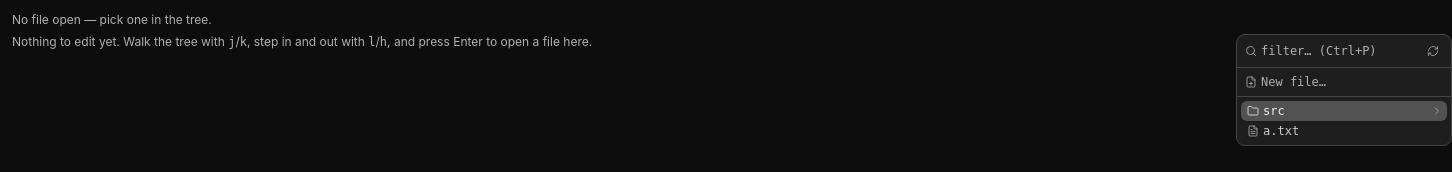
Test: the directory row’s right-edge chevron › collapses back to the right chevron, and gives way in the NAME, never the chevron
Step 1. Click the list item "src" → (1344, 111), box [1241,101,1447,121]
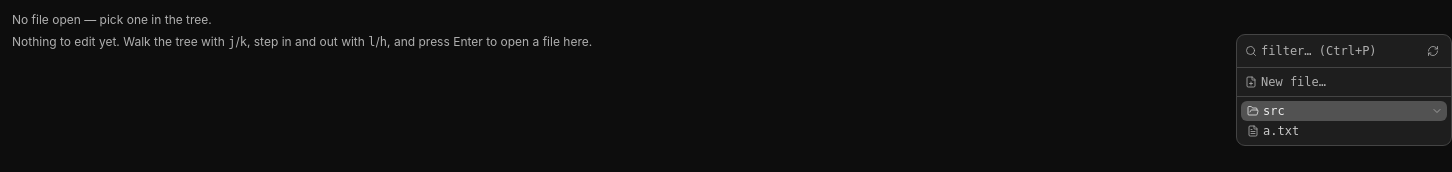
Step 2. Click the list item "src" → (1344, 111), box [1241,101,1447,121]
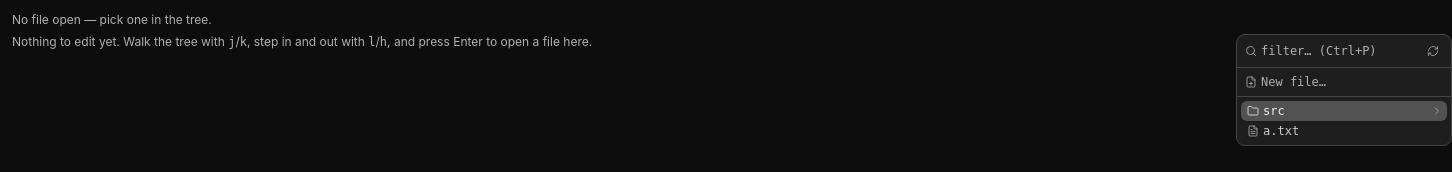
Check: the list item "src" is collapsed, box [1241,101,1447,121]
